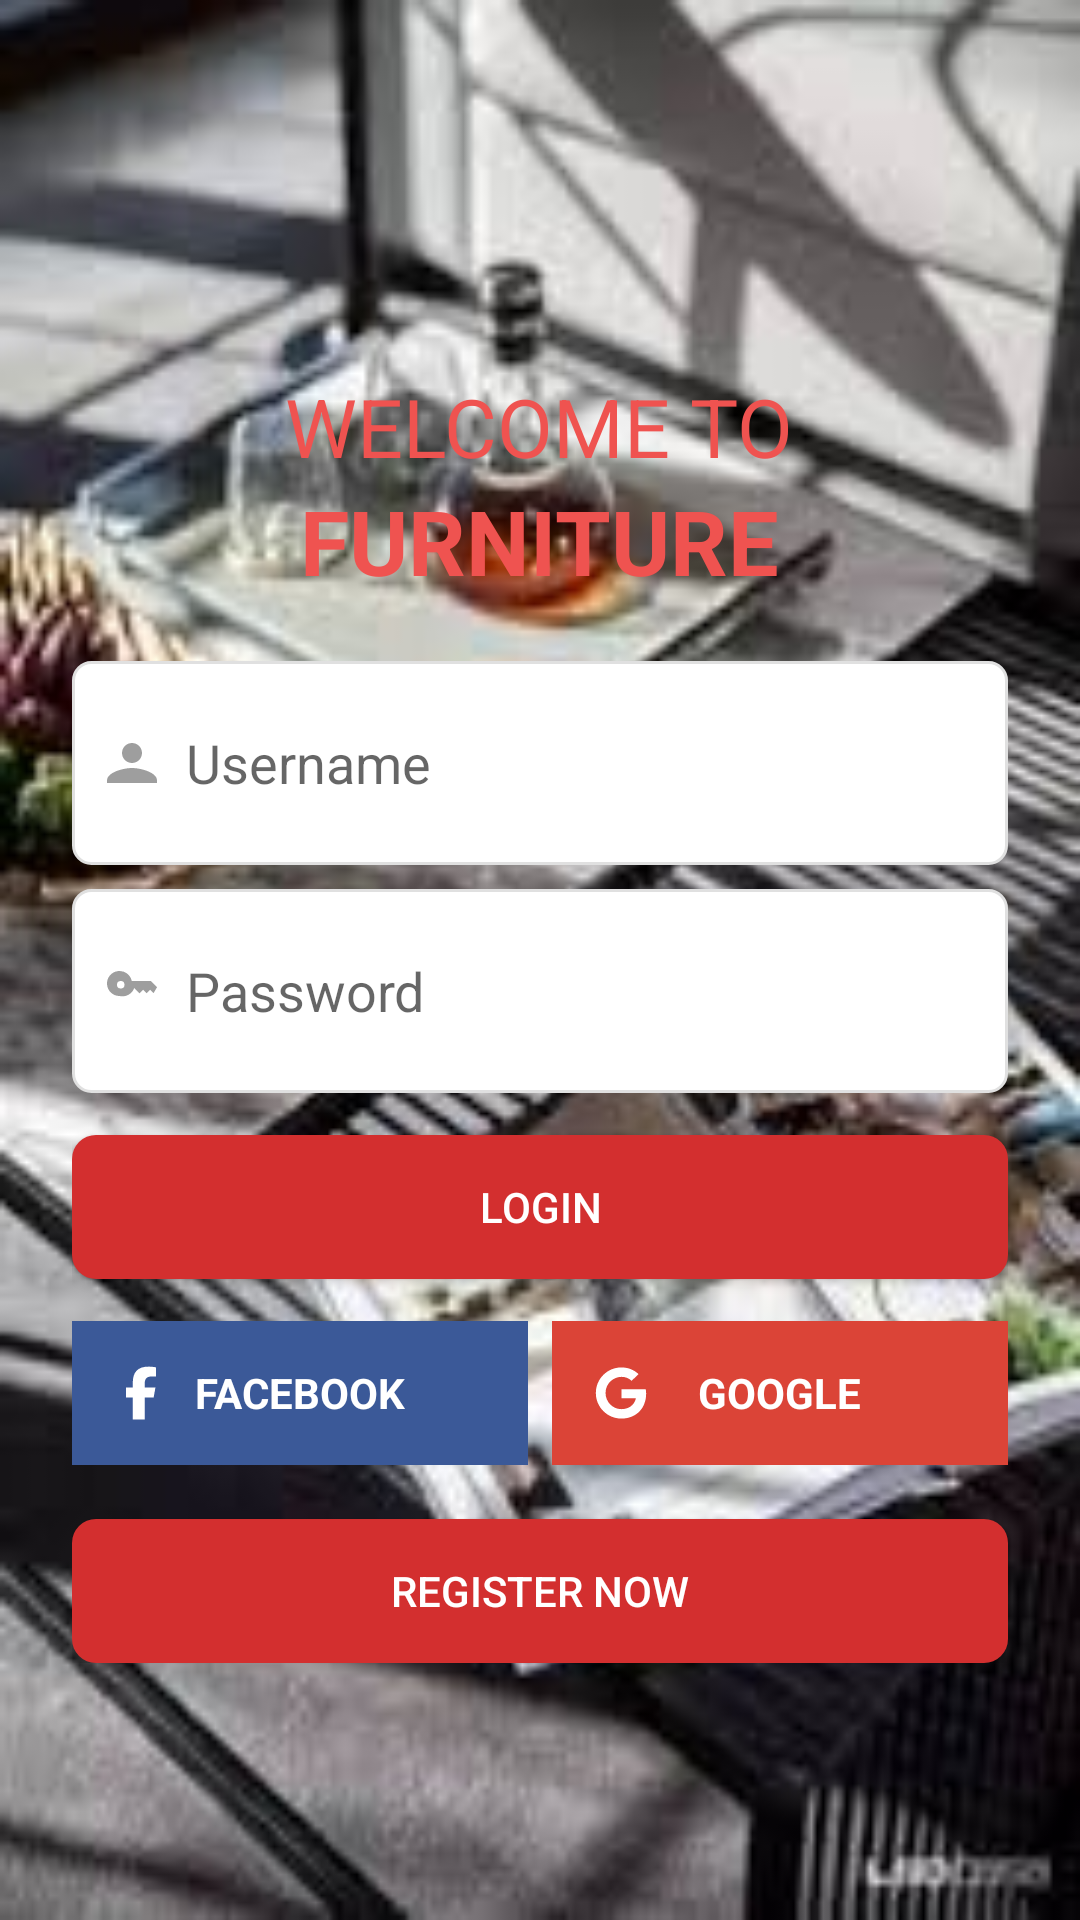

Icons on this 1080w x 1920h Android screen, each with the point to tap as (x,y):
key: (132,983)
